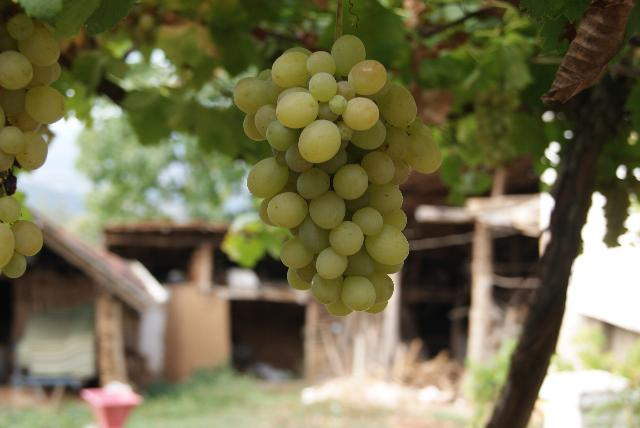grapes: (234, 30, 441, 318), (0, 12, 66, 279)
